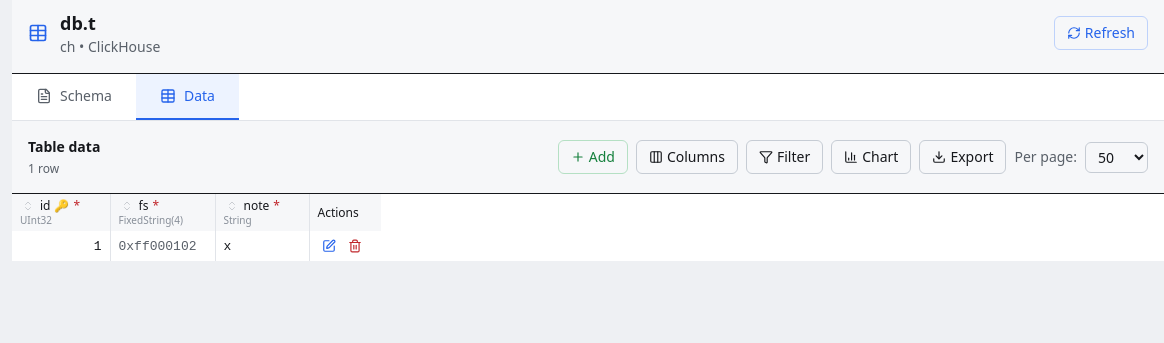
TableDataViewer（ClickHouse） › 「已提交」只说刚才那一次：之后重读了表就收起
What coordinates should you click on to do the following:
click the button named "Delete"
I would click on:
 (354, 246)
Its box is [344,235,366,257].
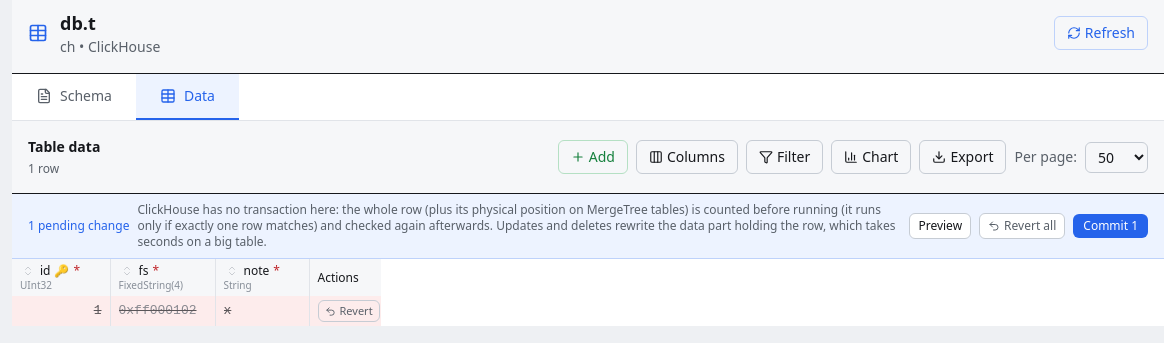
What coordinates should you click on to do the following:
click the button "Commit 1"
I would click on:
 (1111, 226)
Its box is [1073,214,1148,238].
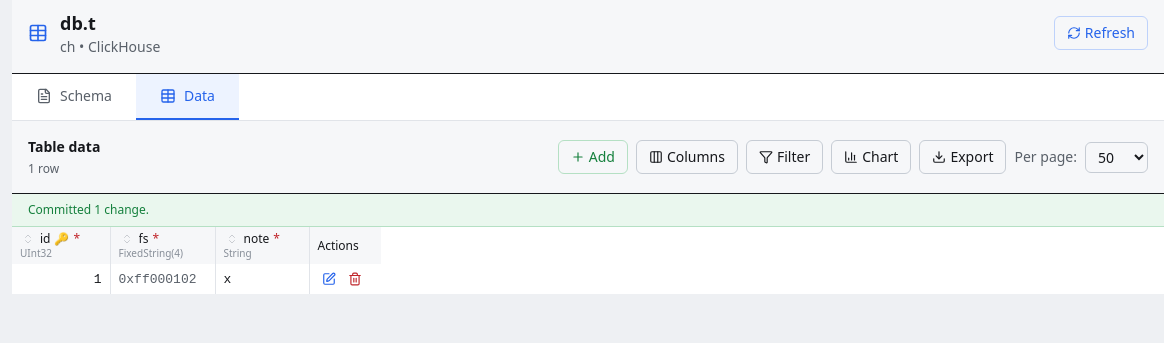
Result: the text "Committed 1 change." is shown at [12,194,1163,227]
What coordinates should you click on to do the following:
click the button named "note: click to sort ascending"
I would click on:
 (232, 239)
Its box is [224,231,240,247].
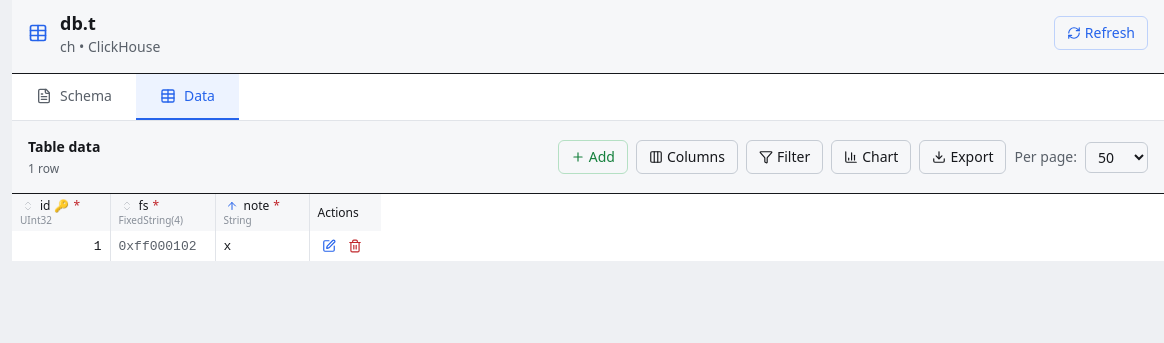
Result: the text "Committed 1 change." is gone
